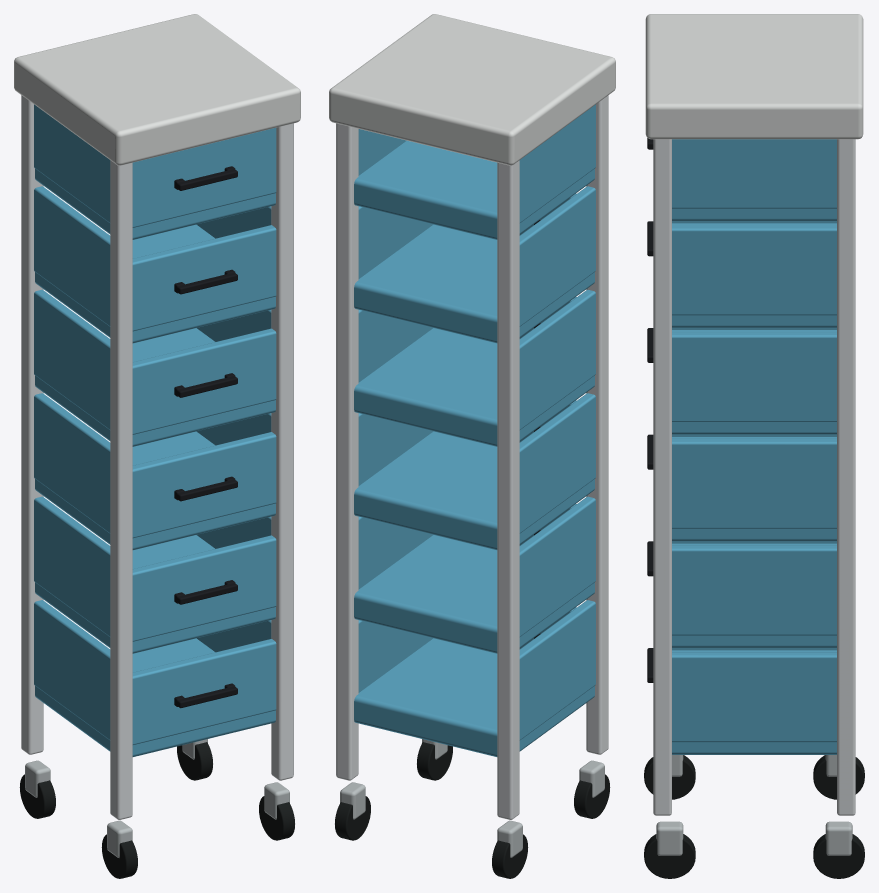
The model's file is plastic-basket-tower.glb.
3 views of the same model, side by side, from view 1: azimuth 30°, elevation 25°; view 2: azimuth 150°, elevation 25°; view 3: azimuth 270°, elevation 25° (orthographic). The views are drawn at different scales.
Parts seen in each view (by area): view 1: Runtime batch - Satin anodized aluminum, Runtime batch - Warm gray powder coat highlight, Runtime batch - __moving__Access - Removable basket 5, Runtime batch - __moving__Access - Removable basket 6, Runtime batch - __moving__Access - Removable basket 2, Runtime batch - __moving__Access - Removable basket 4, Runtime batch - __moving__Access - Removable basket 3, Runtime batch - __moving__Access - Removable basket 1, Runtime batch - Black leveling-foot rubber, Runtime batch - Zinc plated hardware; view 2: Runtime batch - Satin anodized aluminum, Runtime batch - Warm gray powder coat highlight, Runtime batch - __moving__Access - Removable basket 5, Runtime batch - __moving__Access - Removable basket 6, Runtime batch - __moving__Access - Removable basket 2, Runtime batch - __moving__Access - Removable basket 4, Runtime batch - __moving__Access - Removable basket 3, Runtime batch - __moving__Access - Removable basket 1, Runtime batch - Black leveling-foot rubber, Runtime batch - Zinc plated hardware; view 3: Runtime batch - Warm gray powder coat highlight, Runtime batch - Satin anodized aluminum, Runtime batch - __moving__Access - Removable basket 4, Runtime batch - __moving__Access - Removable basket 5, Runtime batch - __moving__Access - Removable basket 2, Runtime batch - __moving__Access - Removable basket 6, Runtime batch - __moving__Access - Removable basket 3, Runtime batch - __moving__Access - Removable basket 1, Runtime batch - Black leveling-foot rubber, Runtime batch - Zinc plated hardware.
Boxes of the visible parts, x1,y1,x2,y2 form: Runtime batch - Satin anodized aluminum: [21, 95, 293, 819]; Runtime batch - Warm gray powder coat highlight: [14, 14, 300, 165]; Runtime batch - __moving__Access - Removable basket 5: [34, 496, 276, 653]; Runtime batch - __moving__Access - Removable basket 6: [34, 600, 276, 756]; Runtime batch - __moving__Access - Removable basket 2: [34, 186, 276, 343]; Runtime batch - __moving__Access - Removable basket 4: [34, 393, 276, 550]; Runtime batch - __moving__Access - Removable basket 3: [34, 289, 276, 446]; Runtime batch - __moving__Access - Removable basket 1: [34, 104, 276, 239]; Runtime batch - Black leveling-foot rubber: [19, 742, 294, 878]; Runtime batch - Zinc plated hardware: [25, 739, 289, 857]; Runtime batch - Satin anodized aluminum: [336, 95, 608, 819]; Runtime batch - Warm gray powder coat highlight: [329, 14, 615, 165]; Runtime batch - __moving__Access - Removable basket 5: [354, 496, 595, 653]; Runtime batch - __moving__Access - Removable basket 6: [354, 600, 595, 756]; Runtime batch - __moving__Access - Removable basket 2: [354, 186, 595, 343]; Runtime batch - __moving__Access - Removable basket 4: [354, 393, 595, 550]; Runtime batch - __moving__Access - Removable basket 3: [354, 289, 595, 446]; Runtime batch - __moving__Access - Removable basket 1: [354, 104, 595, 239]; Runtime batch - Black leveling-foot rubber: [335, 742, 610, 878]; Runtime batch - Zinc plated hardware: [340, 739, 604, 857]; Runtime batch - Warm gray powder coat highlight: [645, 14, 863, 139]; Runtime batch - Satin anodized aluminum: [653, 139, 855, 815]; Runtime batch - __moving__Access - Removable basket 4: [647, 434, 836, 541]; Runtime batch - __moving__Access - Removable basket 5: [647, 541, 836, 647]; Runtime batch - __moving__Access - Removable basket 2: [647, 221, 836, 327]; Runtime batch - __moving__Access - Removable basket 6: [647, 648, 836, 754]; Runtime batch - __moving__Access - Removable basket 3: [647, 328, 836, 434]; Runtime batch - __moving__Access - Removable basket 1: [647, 138, 836, 221]; Runtime batch - Black leveling-foot rubber: [644, 755, 864, 878]; Runtime batch - Zinc plated hardware: [656, 755, 852, 855].
Size of the model in its own units: 0.45 by 1.75 by 0.45.
